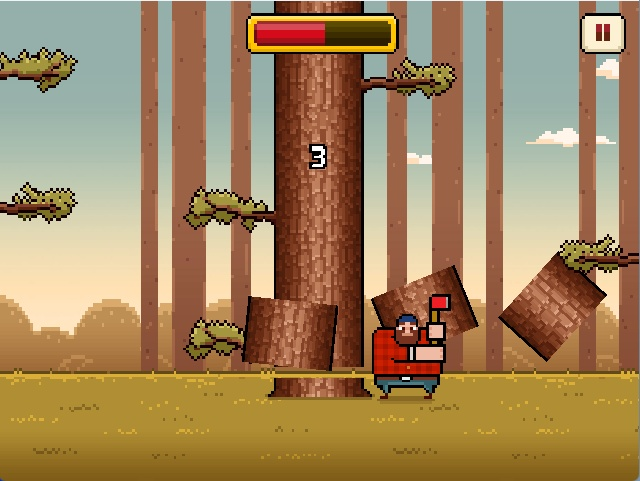left_obs: (180, 180, 281, 243)
right_obs: (354, 54, 460, 101)
timberman: (357, 287, 470, 403)
